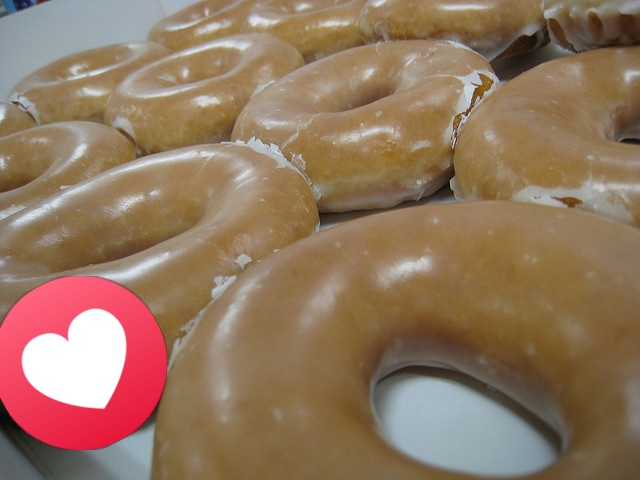love: (0, 276, 167, 450)
